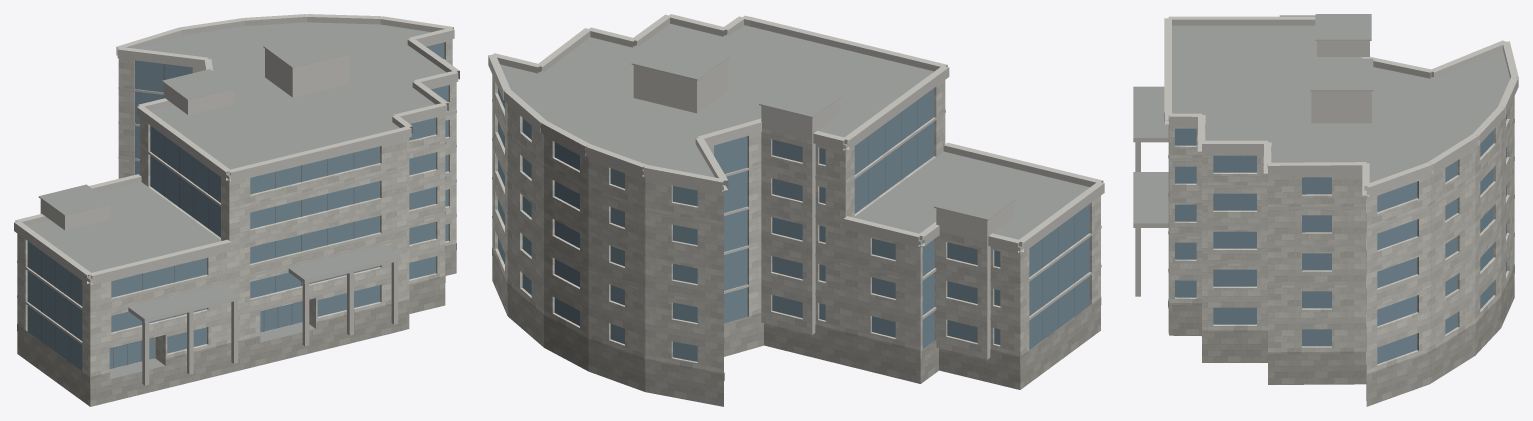
The picture shows the model from 3 angles, left to right: view 1: azimuth 30°, elevation 25°; view 2: azimuth 150°, elevation 25°; view 3: azimuth 270°, elevation 25°; orthographic projection. The views are drawn at different scales.
Visible parts, largest first — view 1: alumniVentureN22__roof, alumniVentureN22__wall, alumniVentureN22__glass, alumniVentureN22__trim, alumniVentureN22__base, alumniVentureN22__wall2, alumniVentureN22__column, alumniVentureN22__frame; view 2: alumniVentureN22__wall, alumniVentureN22__roof, alumniVentureN22__glass, alumniVentureN22__trim, alumniVentureN22__base, alumniVentureN22__wall2; view 3: alumniVentureN22__wall, alumniVentureN22__roof, alumniVentureN22__trim, alumniVentureN22__glass, alumniVentureN22__base, alumniVentureN22__wall2, alumniVentureN22__column.
Boxes of the visible parts, <box> form: alumniVentureN22__roof: <box>27,22,446,379</box>; alumniVentureN22__wall: <box>17,39,456,383</box>; alumniVentureN22__glass: <box>27,42,448,370</box>; alumniVentureN22__trim: <box>14,14,459,350</box>; alumniVentureN22__base: <box>17,243,456,406</box>; alumniVentureN22__wall2: <box>40,48,349,230</box>; alumniVentureN22__column: <box>142,261,398,385</box>; alumniVentureN22__frame: <box>41,64,354,368</box>; alumniVentureN22__wall: <box>492,75,1100,373</box>; alumniVentureN22__roof: <box>500,23,1089,247</box>; alumniVentureN22__glass: <box>498,88,1089,361</box>; alumniVentureN22__trim: <box>488,14,1104,343</box>; alumniVentureN22__base: <box>492,248,1101,406</box>; alumniVentureN22__wall2: <box>633,58,1013,359</box>; alumniVentureN22__wall: <box>1168,96,1514,381</box>; alumniVentureN22__roof: <box>1133,14,1509,223</box>; alumniVentureN22__trim: <box>1133,16,1518,345</box>; alumniVentureN22__glass: <box>1175,114,1506,364</box>; alumniVentureN22__base: <box>1168,264,1514,406</box>; alumniVentureN22__wall2: <box>1311,41,1371,123</box>; alumniVentureN22__column: <box>1135,142,1140,296</box>.
Size of the model in its own units: 52.6 by 24.9 by 34.95.
9 materials, 2 textured.
